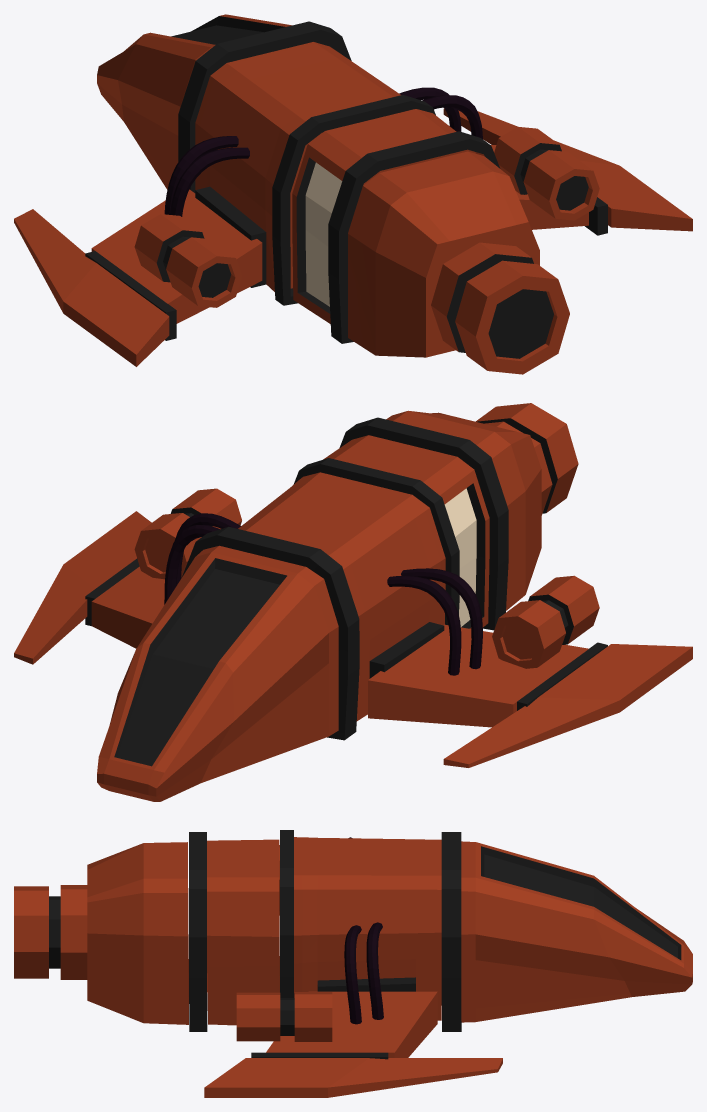
Rendered from Statek_cały.fbx.
3 views of the same model, one above another, from view 1: azimuth 30°, elevation 25°; view 2: azimuth 150°, elevation 25°; view 3: azimuth 270°, elevation 25° (orthographic). The views are drawn at different scales.
Parts seen in each view (by area): view 1: Cube.002, Cube.006, Circle.003, Cube.004, Cube.008, Cube.007; view 2: Cube.007, Circle.003, Cube.006, Cube.008, Cube.004, Cube.002; view 3: Cube.007, Cube.002, Cube.006, Cube.004, Circle.003, Cube.008.
Boxes of the visible parts, x1,y1,x2,y2 form: Cube.002: (348, 151, 569, 374); Cube.006: (195, 42, 435, 305); Circle.003: (91, 87, 599, 323); Cube.004: (292, 109, 500, 343); Cube.008: (14, 108, 692, 366); Cube.007: (97, 14, 351, 192); Cube.007: (97, 526, 359, 801); Circle.003: (91, 488, 599, 727); Cube.006: (238, 458, 459, 721); Cube.008: (14, 511, 692, 767); Cube.004: (323, 417, 508, 630); Cube.002: (386, 403, 578, 610); Cube.007: (441, 832, 692, 1031); Cube.002: (14, 842, 188, 1024); Cube.006: (280, 830, 441, 1020); Cube.004: (189, 832, 279, 1031); Circle.003: (236, 837, 437, 1057); Cube.008: (204, 1052, 502, 1097).
Bounding box in the file's own units: 985 × 299 × 1229.
